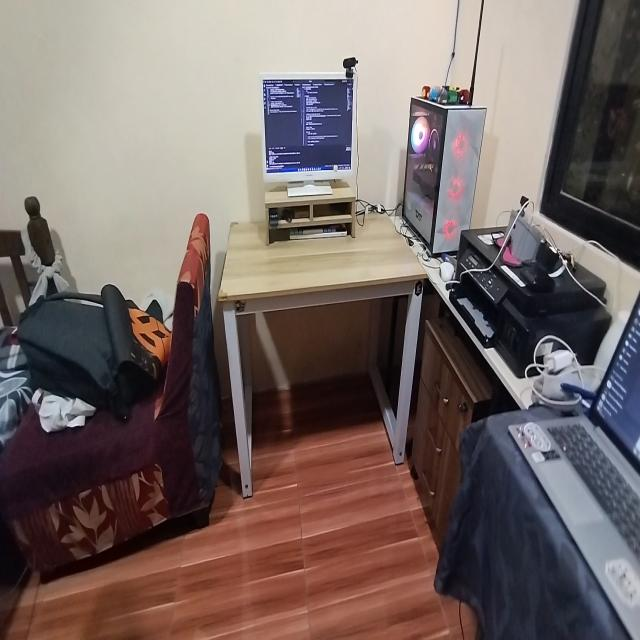table: (220, 199, 430, 495)
